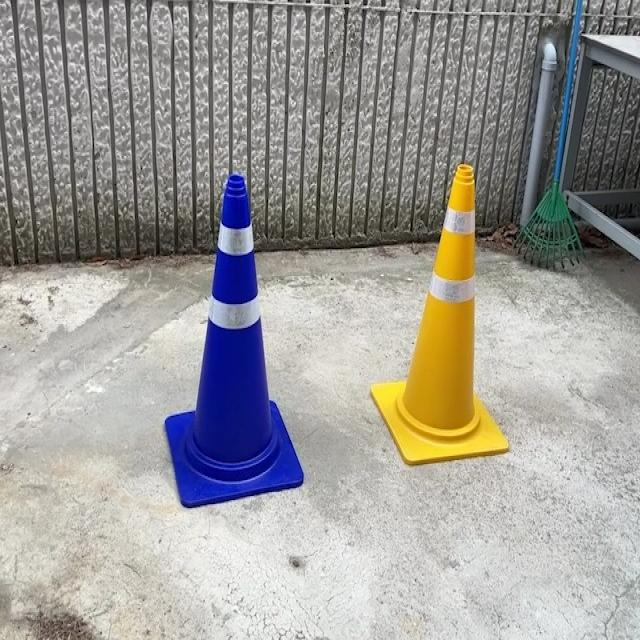b_rub: (165, 173, 304, 507)
y_rub: (372, 164, 510, 465)
